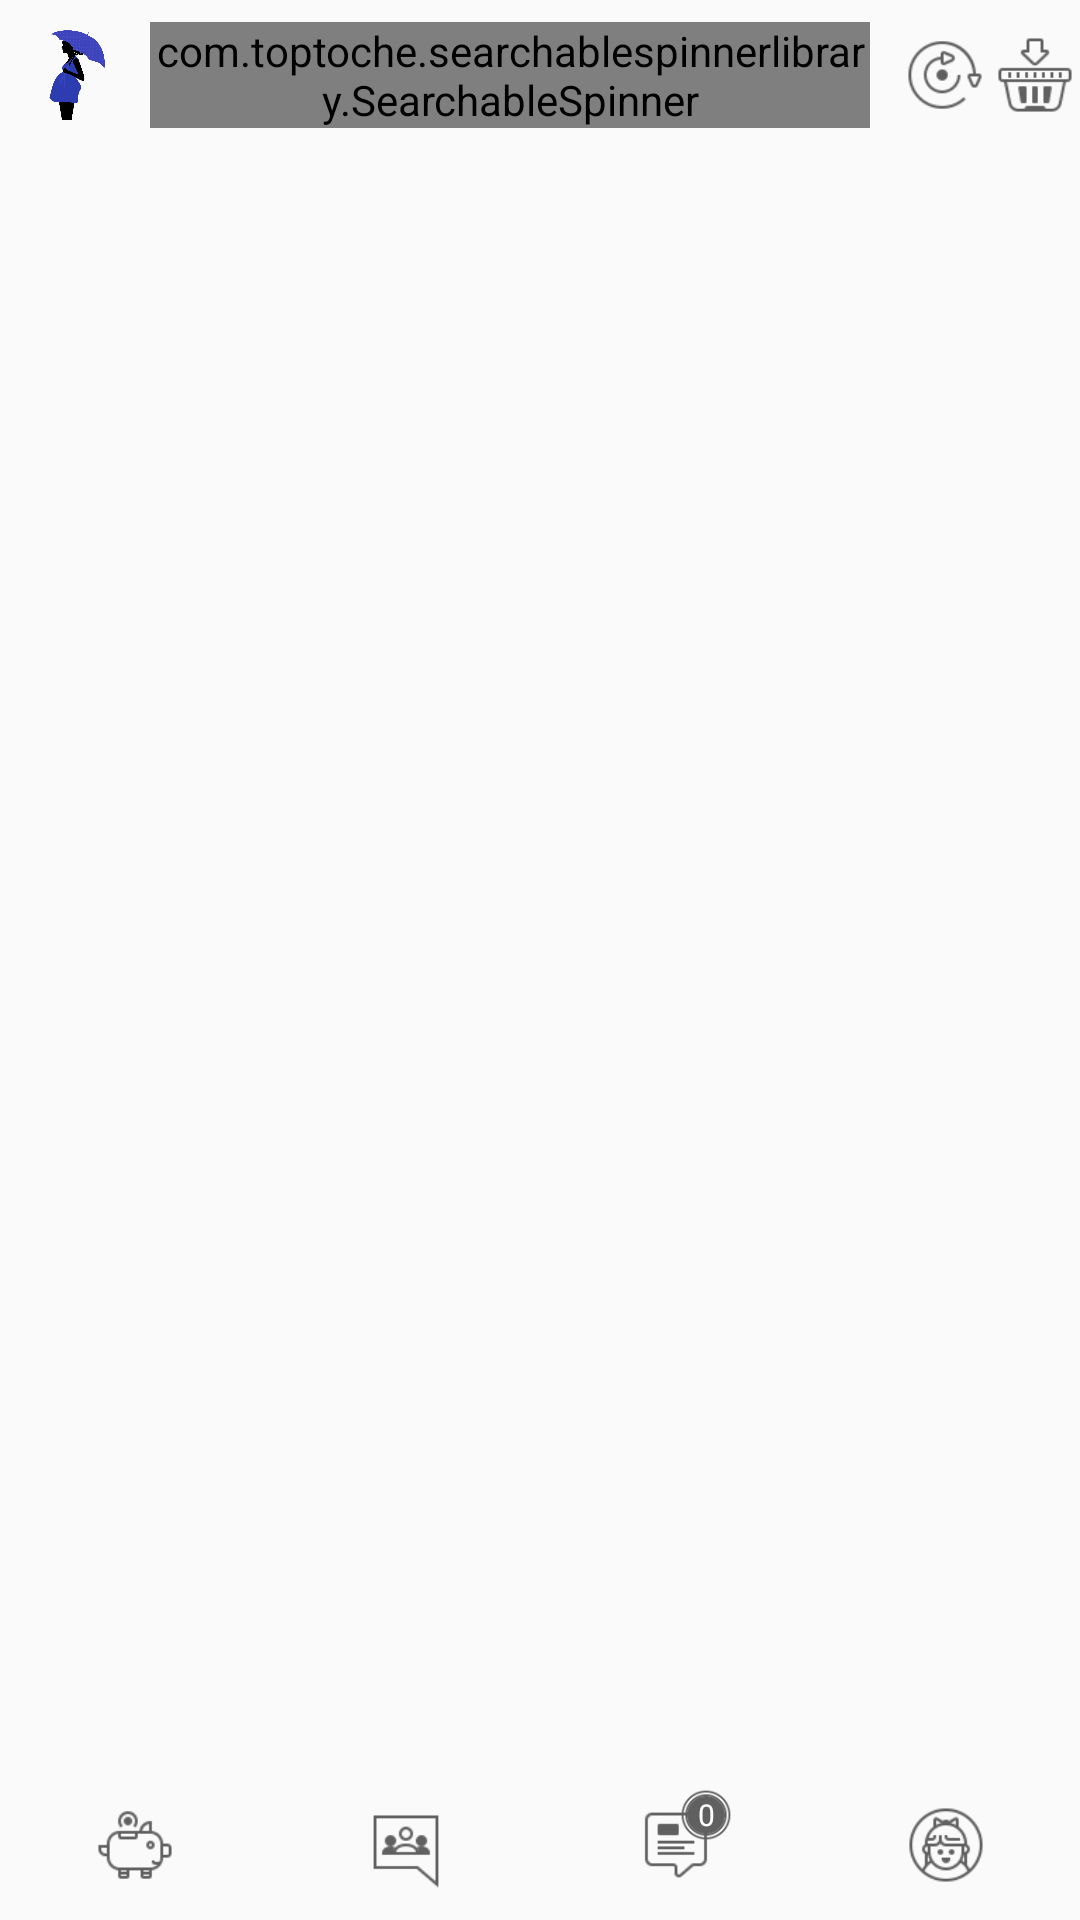

Icons on this 1080px x 1920px Android screen, each with the point to tap as point (x, y):
add to cart: point (1035, 75)
chat: point (683, 1839)
groups: point (406, 1851)
refresh: point (945, 75)
user: point (946, 1845)
wallet baby: point (135, 1845)
